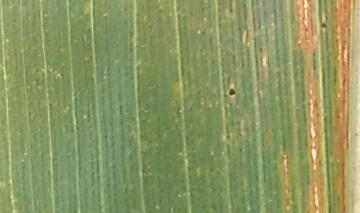tarspot: (227, 86, 237, 97), (320, 22, 328, 29)
